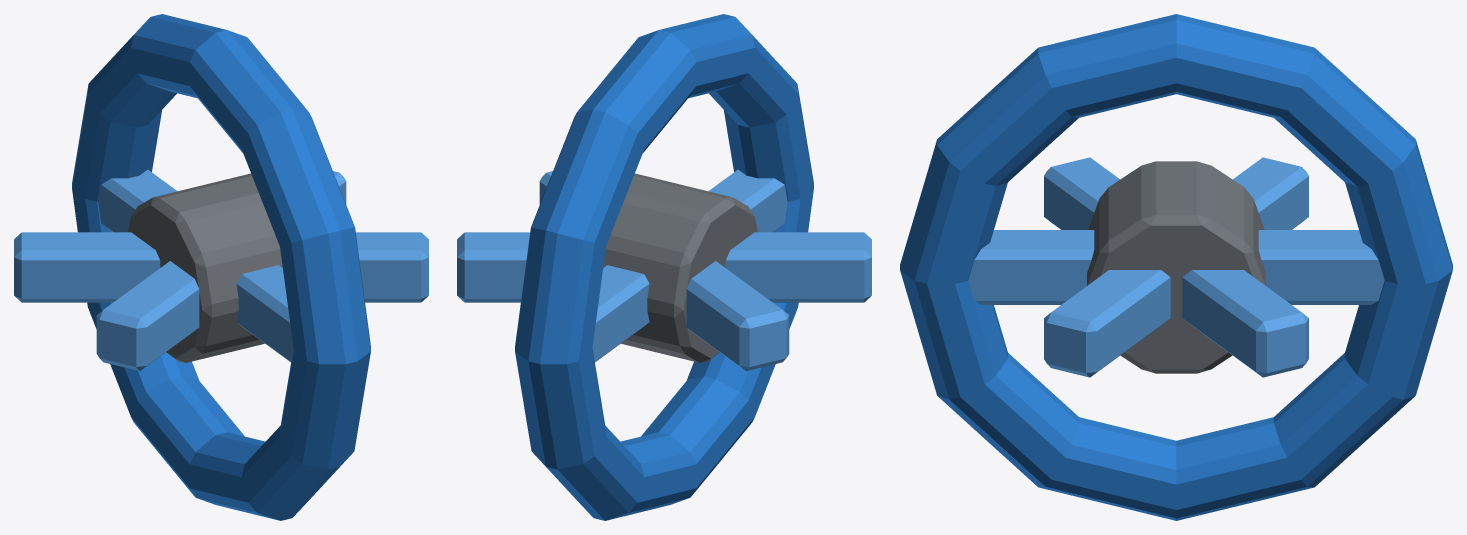
The model's file is rotating_handle.glb.
3 renders of one model, left to right at view 1: azimuth 30°, elevation 25°; view 2: azimuth 150°, elevation 25°; view 3: azimuth 270°, elevation 25°, orthographic. The views are drawn at different scales.
Parts seen in each view (by area): view 1: rotating_handle; view 2: rotating_handle; view 3: rotating_handle.
Boxes of the visible parts, x1,y1,x2,y2 form: rotating_handle: (14,14,428,520); rotating_handle: (457,14,871,520); rotating_handle: (900,14,1452,520).
Bounding box in the file's own units: 0.1972 × 0.27 × 0.27.
